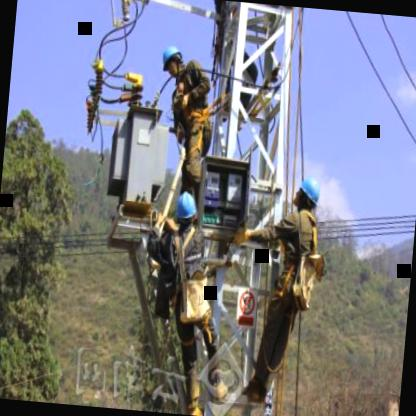helmet: (292, 173, 323, 223), (157, 41, 187, 88), (172, 188, 200, 229)
